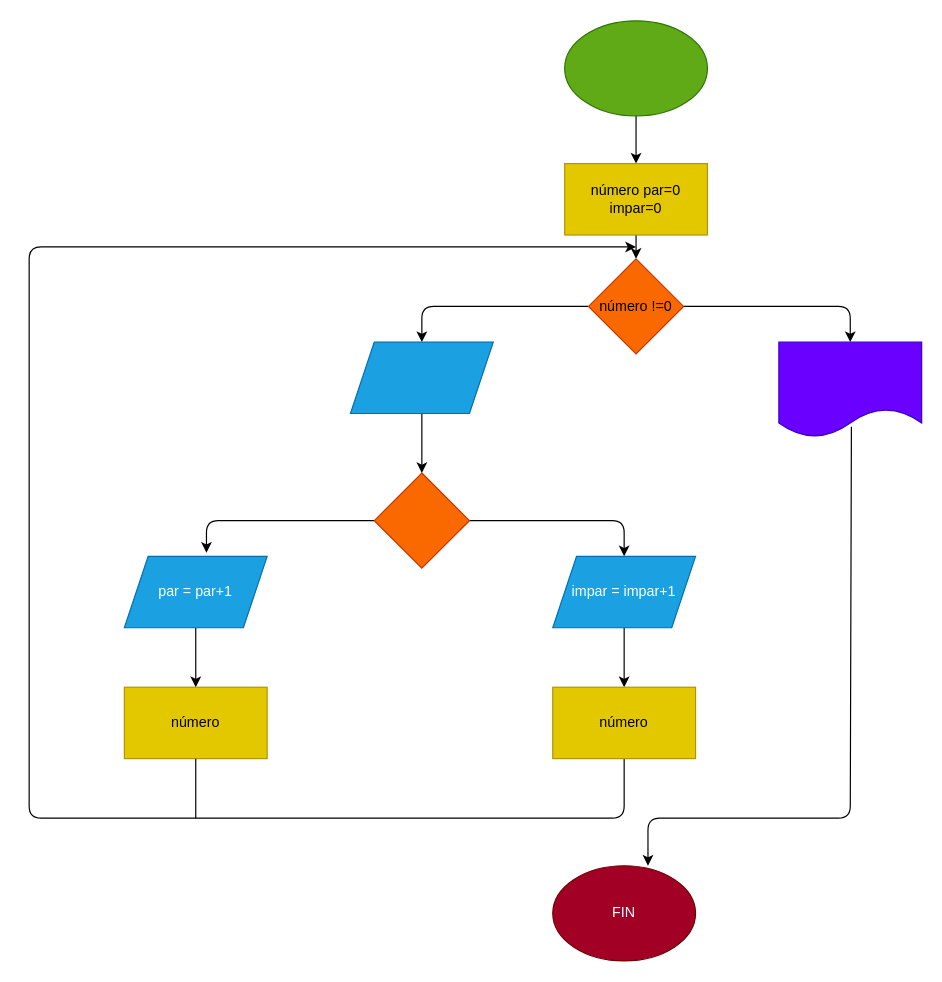
Some shapes in this 942 by 982 pixel diagram are drawn without their labels. Each missing label, with the centre of its shape:
"INICIO" belongs at [635,68].
"número=%2" belongs at [421,377].
"número=0" belongs at [421,520].
"par impar" belongs at [850,389].
